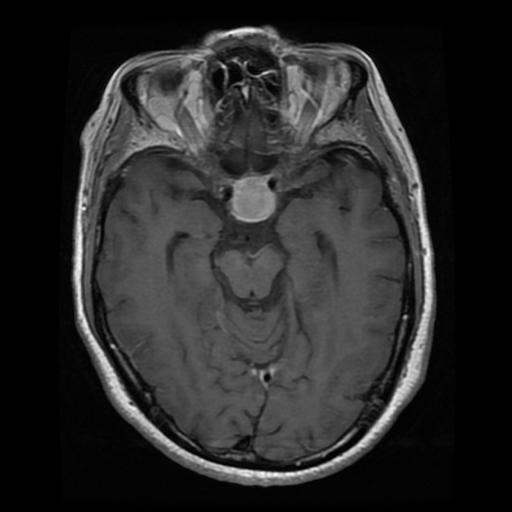Pituirity_tumour: (230, 176, 277, 221)
